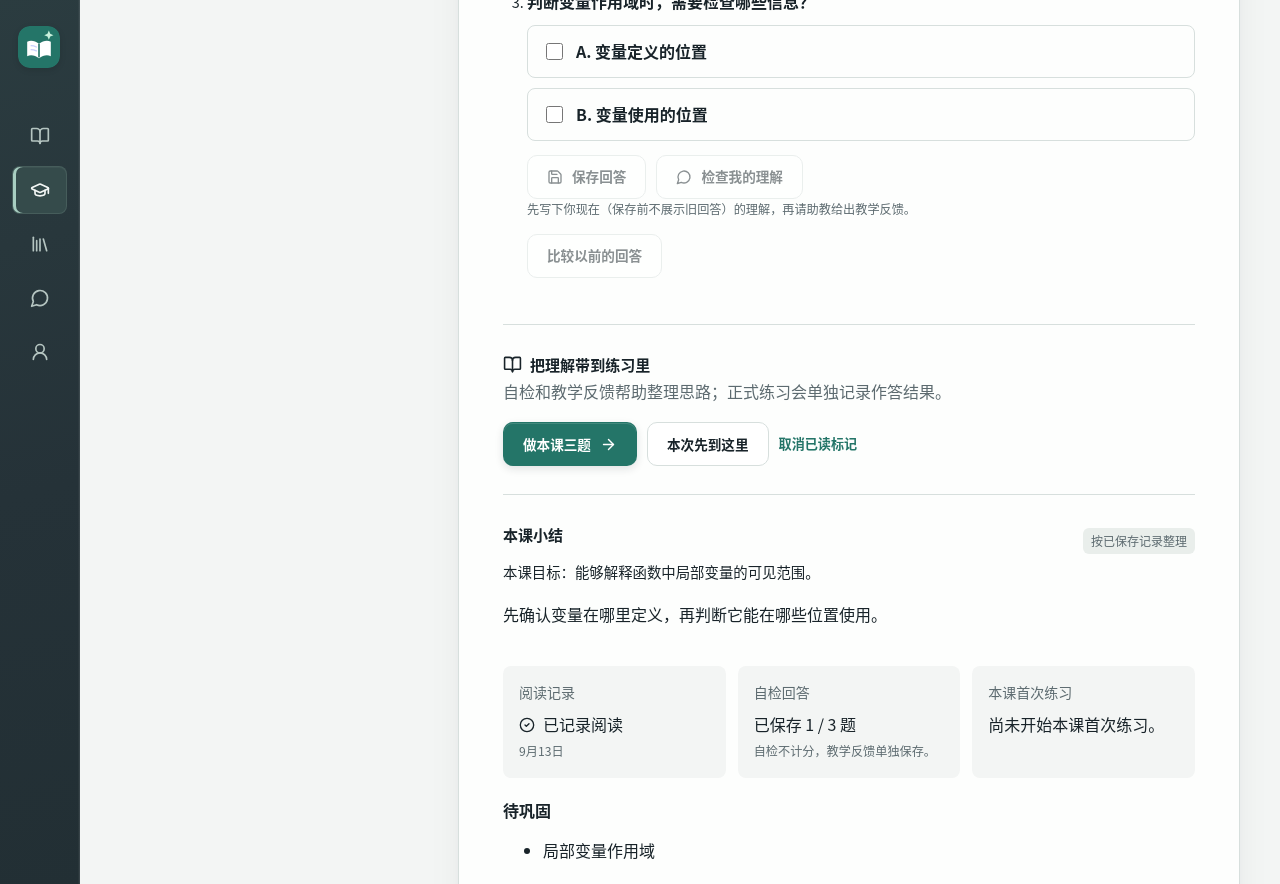
Test case: one lesson learning flow › recovers a saved read=false operation without toggling it back or opening practice
This screenshot has width=1280, height=884.
(page scrolled)
What coordinates should you click on to do the following:
click the button "取消已读标记"
I would click on:
 (818, 444)
Its box is [778,422,857,466].
(page scrolled)
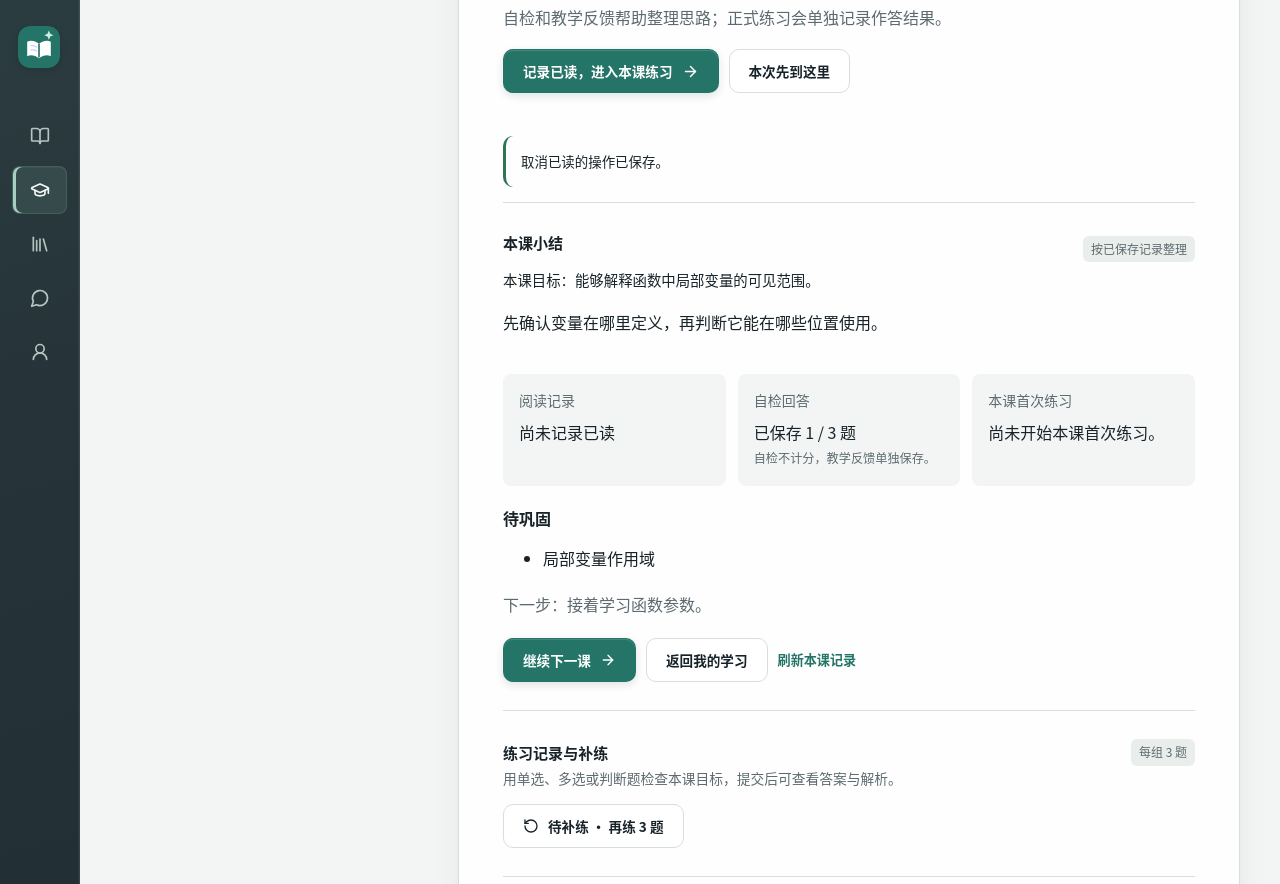
Expected: the button "记录已读，进入本课练习" is enabled, [503,49,718,93]
Expected: the text "取消已读的操作已保存。" is shown, [521,151,669,171]
Expected: the element "本课小结" shows "尚未记录已读", [519,420,615,444]
